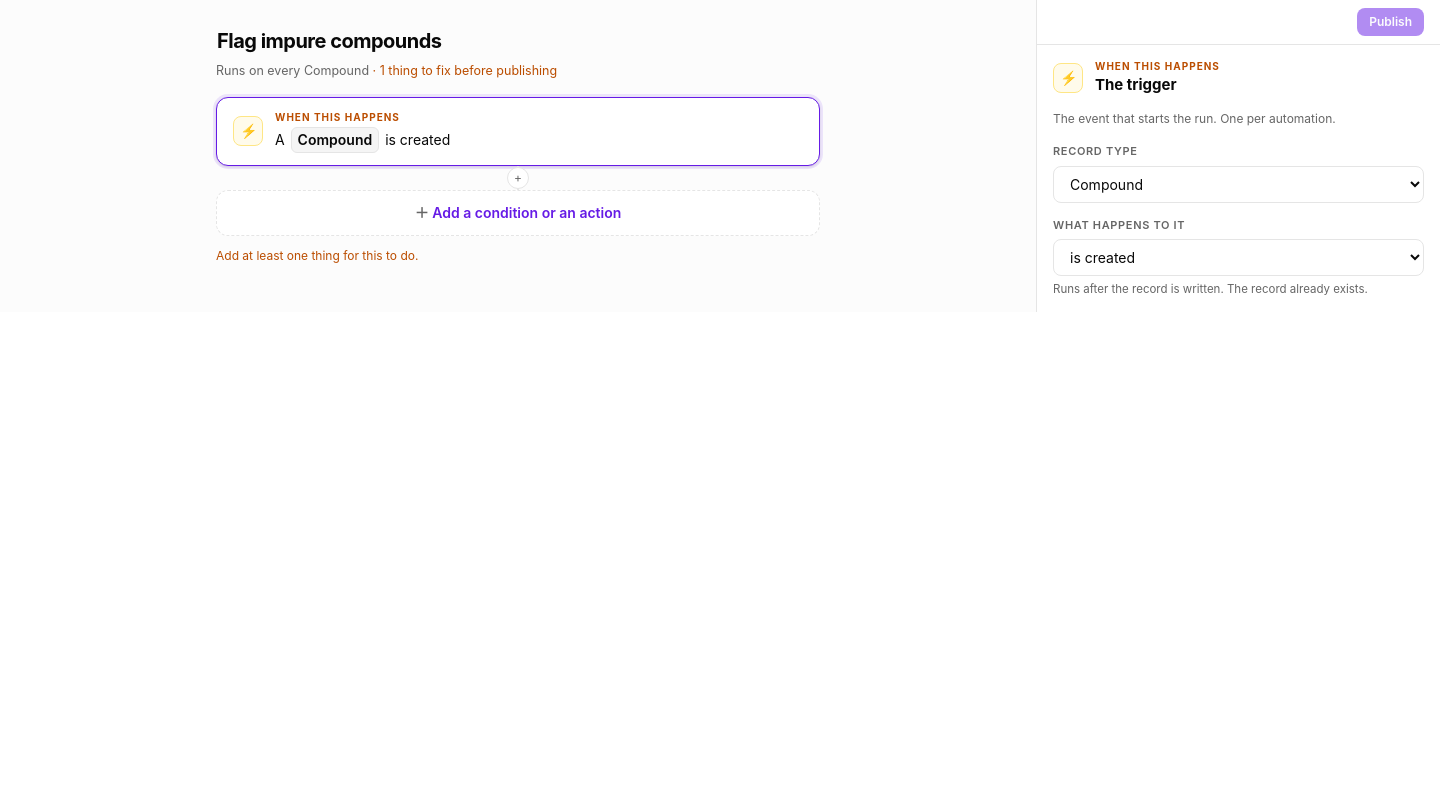
Test case: AutomationBuilder › adds a check that reads as a sentence
Click the button "＋ Add a condition or an action" at (518, 213), box [216,190,820,236]
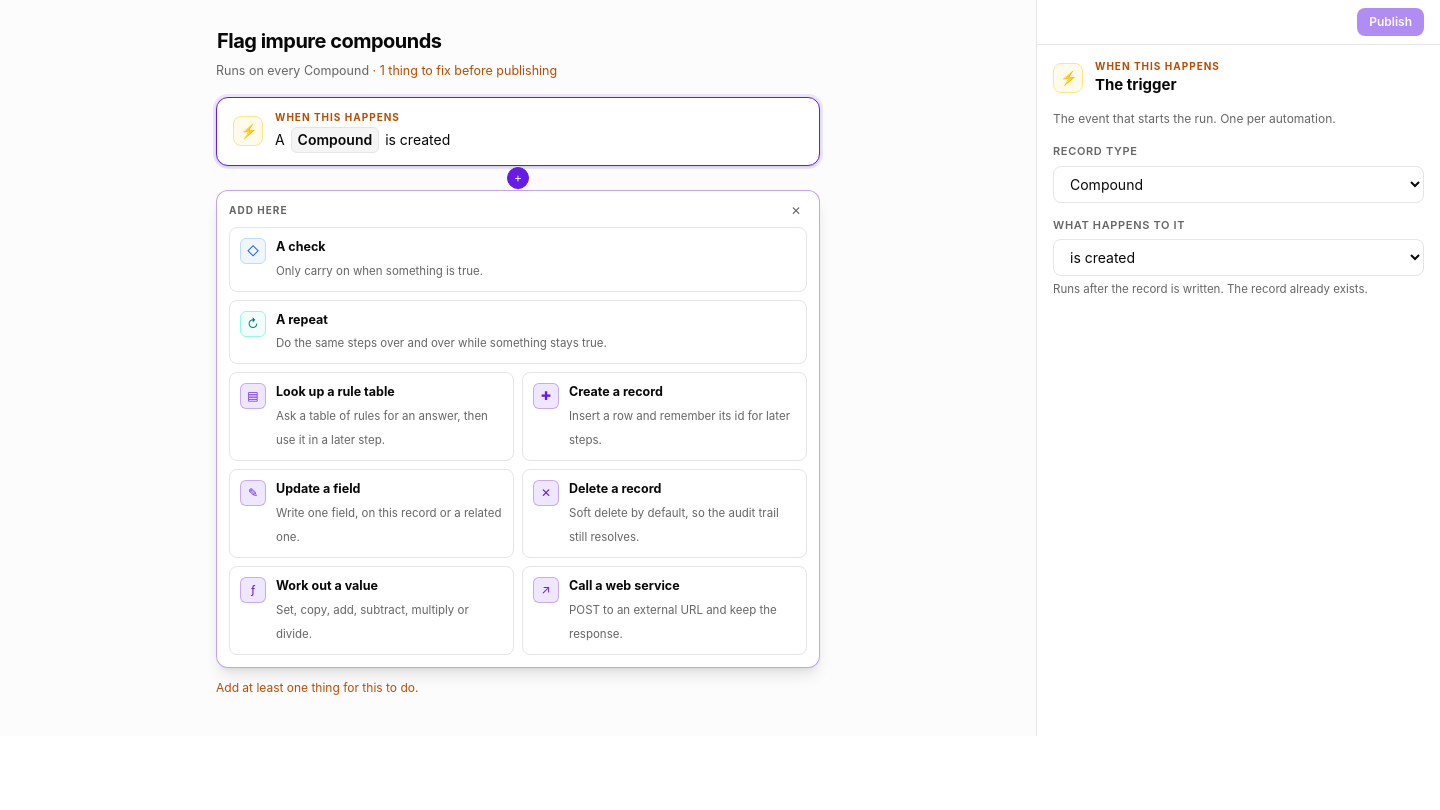
Click the menu item "◇ A check Only carry on when something is true." at (301, 246), box [229,227,807,292]
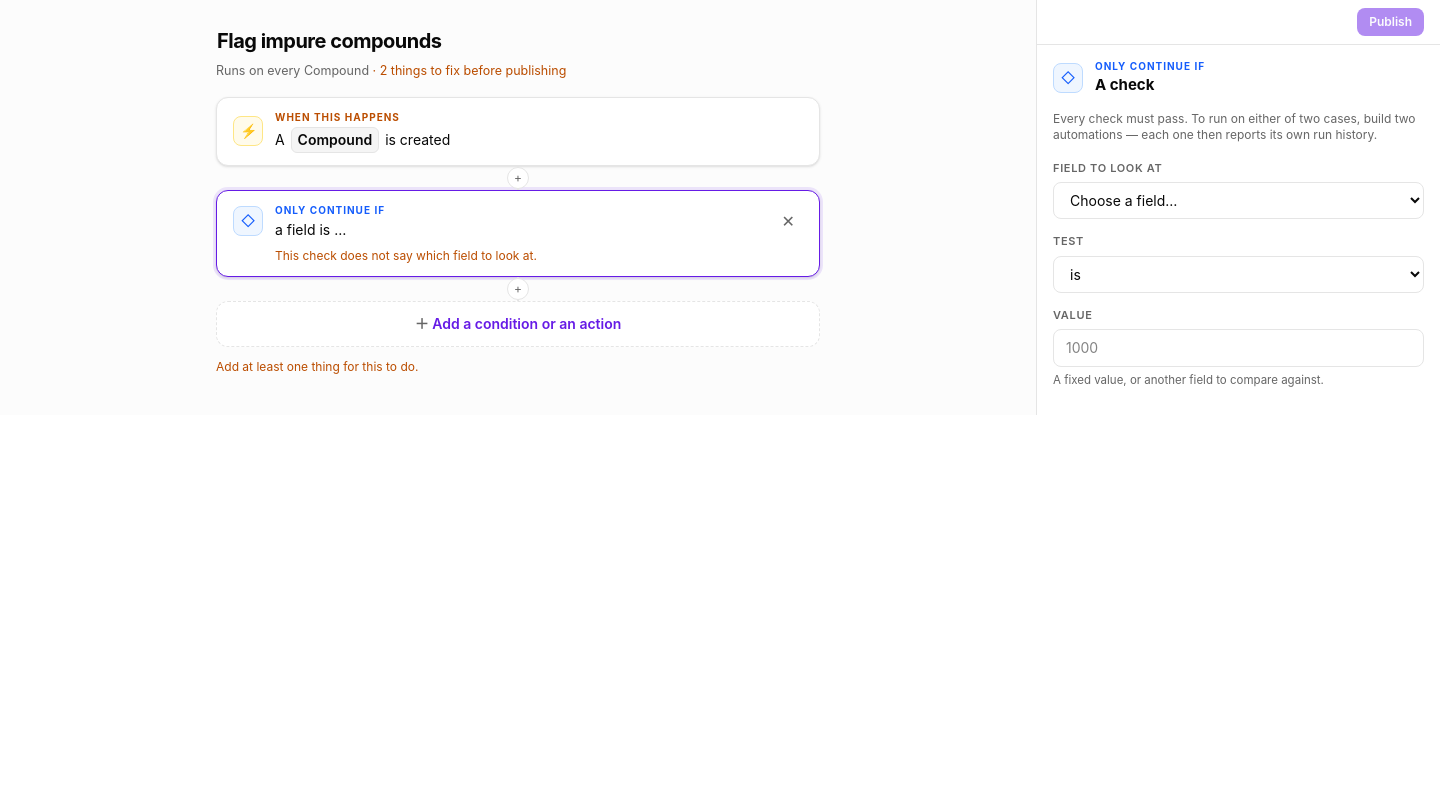
Now the text "Only continue if" below "Runs on every Compound" is shown, box [275,204,385,216]
Select "compound.status" in the dropdown labelled "Field to look at" at (1238, 200), box [1053,182,1424,219]
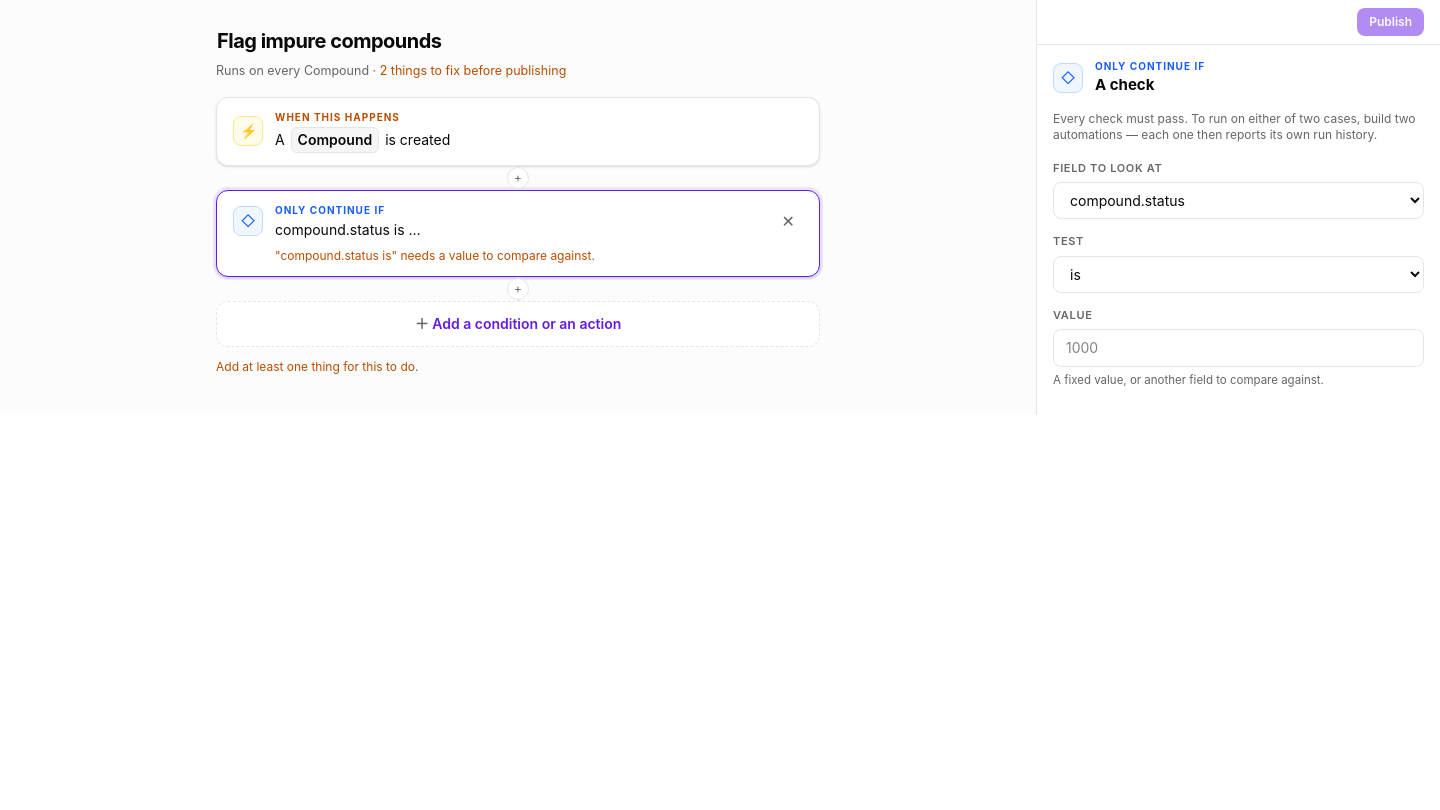
Now the text "compound.status is …" is shown, box [275,220,421,240]
